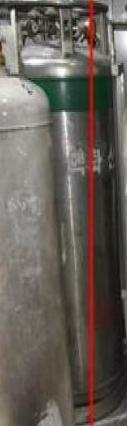cylinder: (0, 1, 127, 426)
